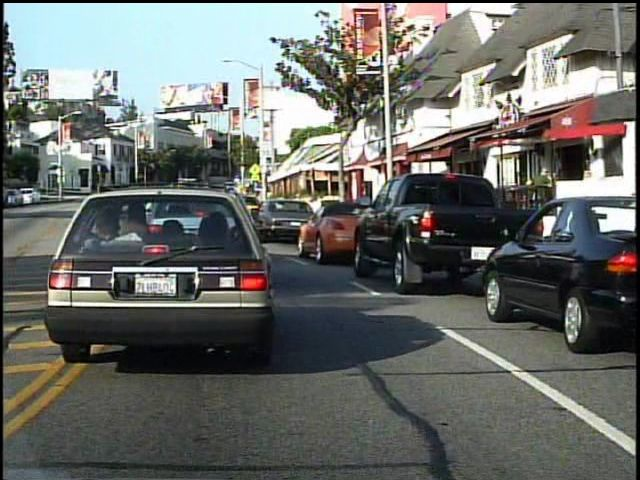person: (528, 163, 555, 230)
